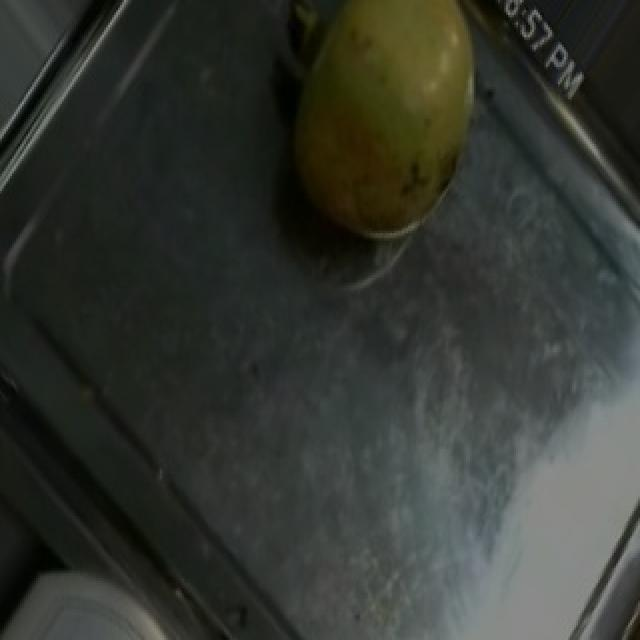fruit: (268, 0, 514, 273), (0, 533, 212, 640)
